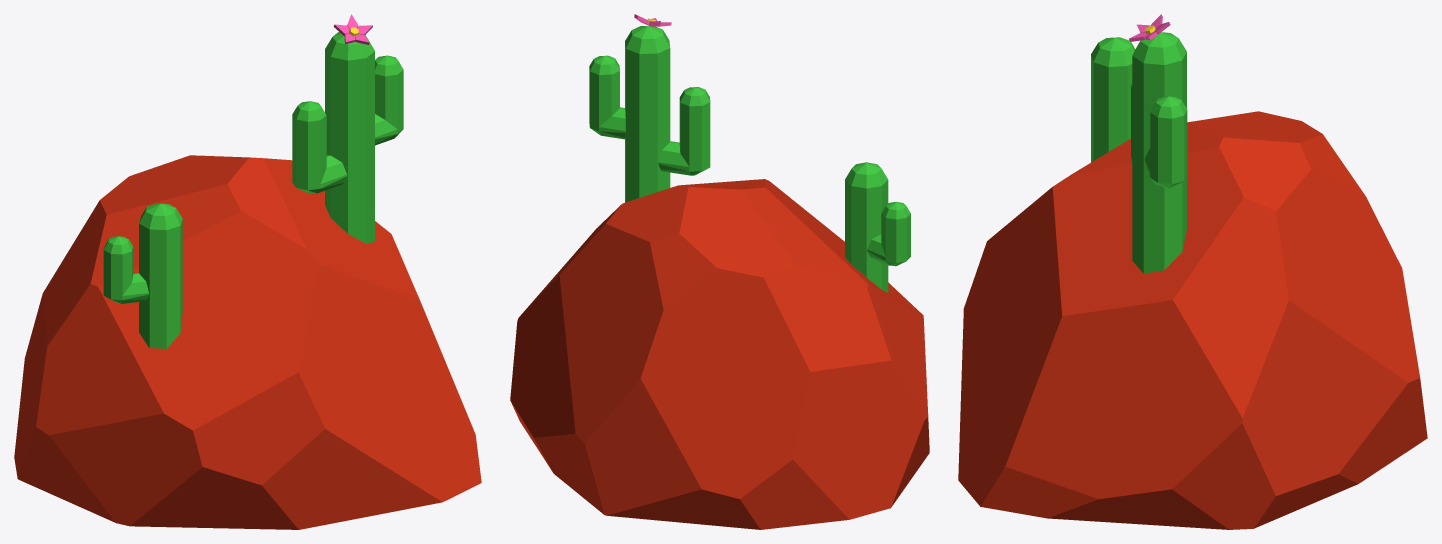
File: CactusBoulder.fbx
3 views of the same model, side by side, from view 1: azimuth 30°, elevation 25°; view 2: azimuth 150°, elevation 25°; view 3: azimuth 270°, elevation 25° (orthographic). The views are drawn at different scales.
Visible parts, largest first — view 1: CactusBoulder, CactusBoulder_CactusTall, CactusBoulder_CactusShort, CactusBoulder_Flower_Petals; view 2: CactusBoulder, CactusBoulder_CactusTall, CactusBoulder_CactusShort; view 3: CactusBoulder, CactusBoulder_CactusTall, CactusBoulder_CactusShort.
Part boxes in pixels (<box>): CactusBoulder: <box>14,155,481,529</box>; CactusBoulder_CactusTall: <box>292,32,403,243</box>; CactusBoulder_CactusShort: <box>103,203,182,348</box>; CactusBoulder_Flower_Petals: <box>333,14,372,44</box>; CactusBoulder: <box>510,179,929,529</box>; CactusBoulder_CactusTall: <box>589,26,710,202</box>; CactusBoulder_CactusShort: <box>845,162,910,292</box>; CactusBoulder: <box>958,111,1427,529</box>; CactusBoulder_CactusTall: <box>1131,32,1187,273</box>; CactusBoulder_CactusShort: <box>1091,37,1135,162</box>.
Bounding box in the file's own units: 18.5 × 18.3 × 16.89.
